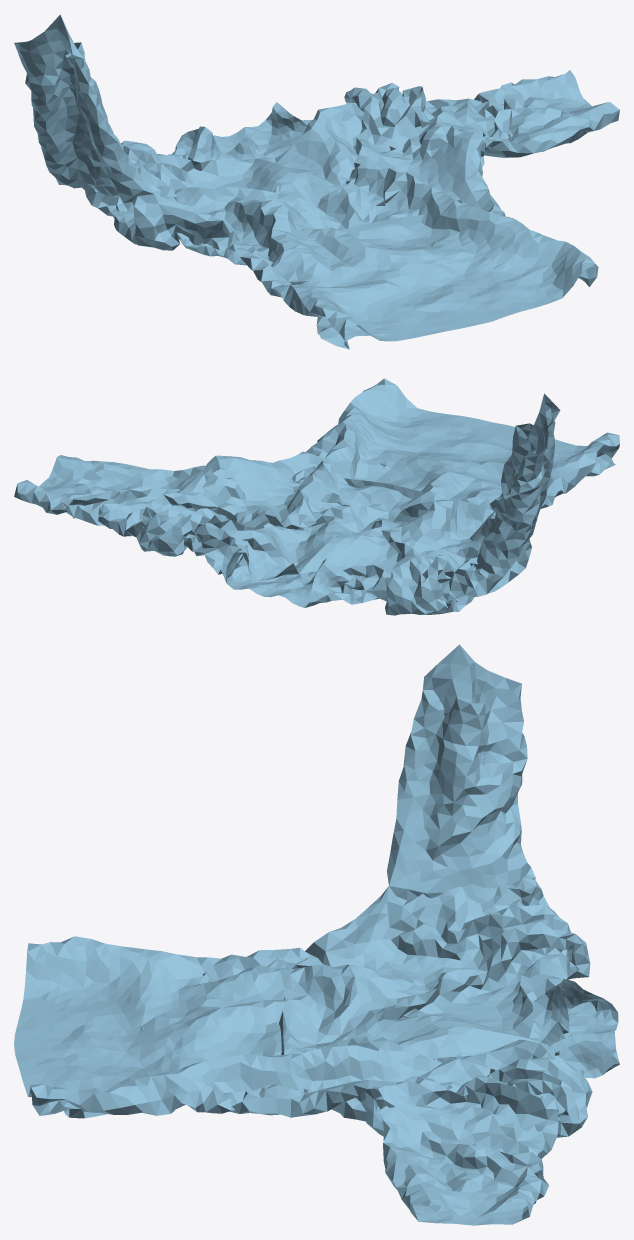
File: frame_06.glb
The picture shows the model from 3 angles, top to bottom: view 1: azimuth 30°, elevation 25°; view 2: azimuth 150°, elevation 25°; view 3: azimuth 270°, elevation 25°; orthographic projection. The views are drawn at different scales.
Visible parts, largest first — view 1: frame_06.obj; view 2: frame_06.obj; view 3: frame_06.obj.
Boxes of the visible parts, bbox=[...] form: frame_06.obj: bbox=[14, 14, 619, 349]; frame_06.obj: bbox=[14, 378, 619, 615]; frame_06.obj: bbox=[14, 644, 619, 1225].
Bounding box in the file's own units: 1.71 × 0.6854 × 1.35.
